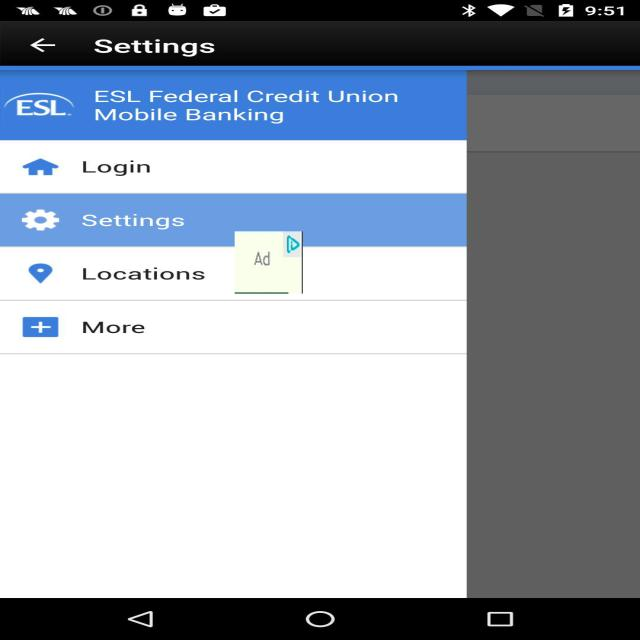sneaking: (235, 231, 302, 294)
